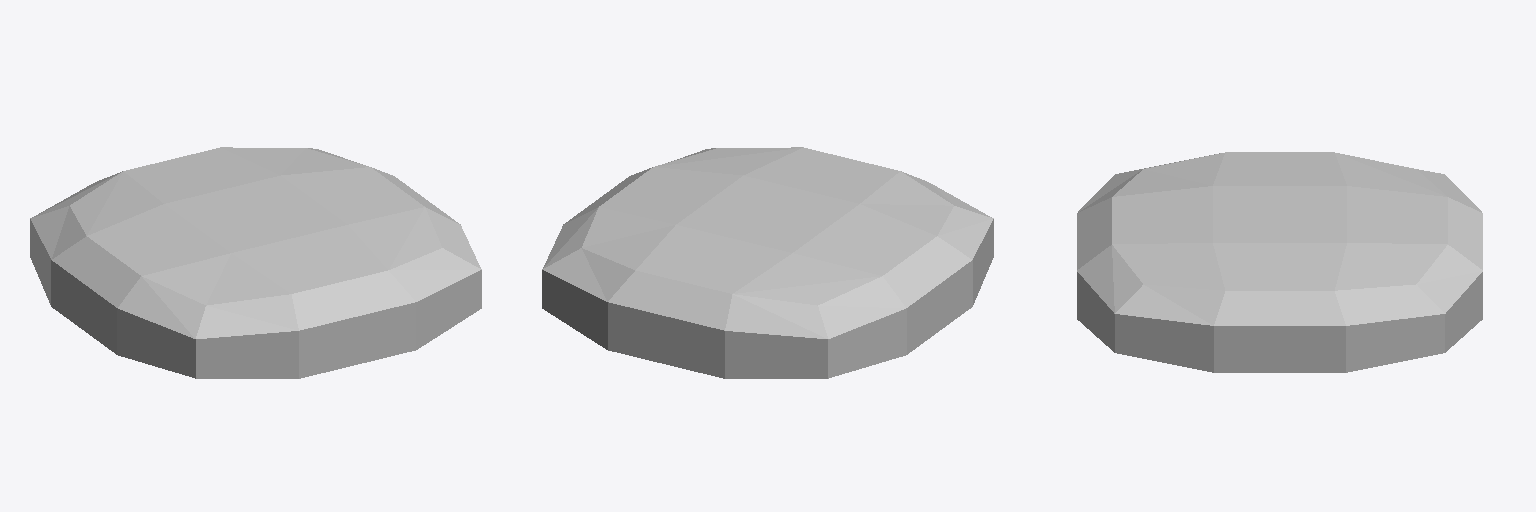
The model's file is ember.obj.
3 views of the same model, side by side, from view 1: azimuth 30°, elevation 25°; view 2: azimuth 150°, elevation 25°; view 3: azimuth 270°, elevation 25° (orthographic).
Parts seen in each view (by area): view 1: Cube; view 2: Cube; view 3: Cube.
Boxes of the visible parts, <box> form: Cube: <box>30,147,481,378</box>; Cube: <box>542,147,993,378</box>; Cube: <box>1077,152,1482,372</box>.
Size of the model in its own units: 0.2392 by 0.0555 by 0.2455.